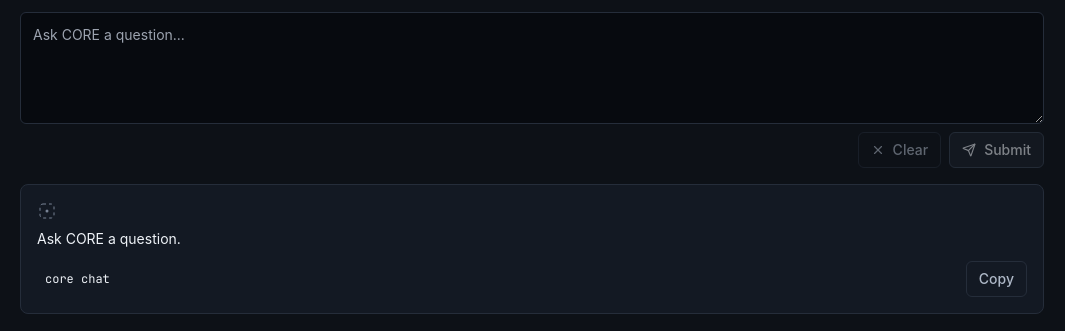
Test: ChatRoute › disables composer and renders Awaiting turn while pending
Type "What is truth?" into the text box with placeholder "Ask CORE a question...".
click(532, 68); type("What is truth?")  # box [20,12,1044,124]
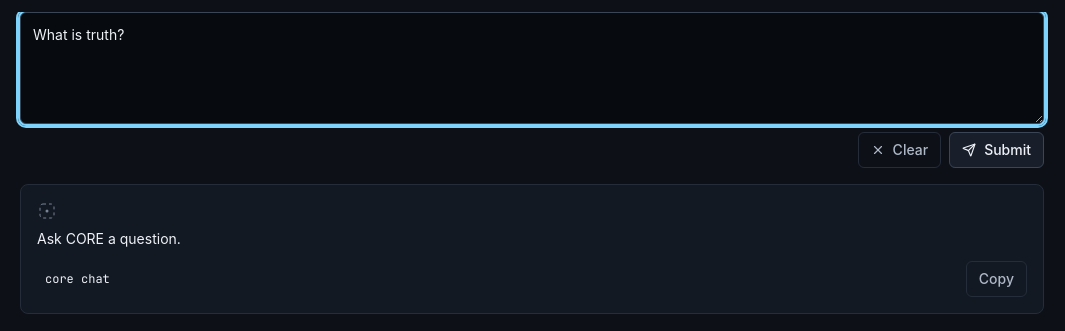
Click the button "Submit".
click(997, 150)  # box [949,132,1044,168]
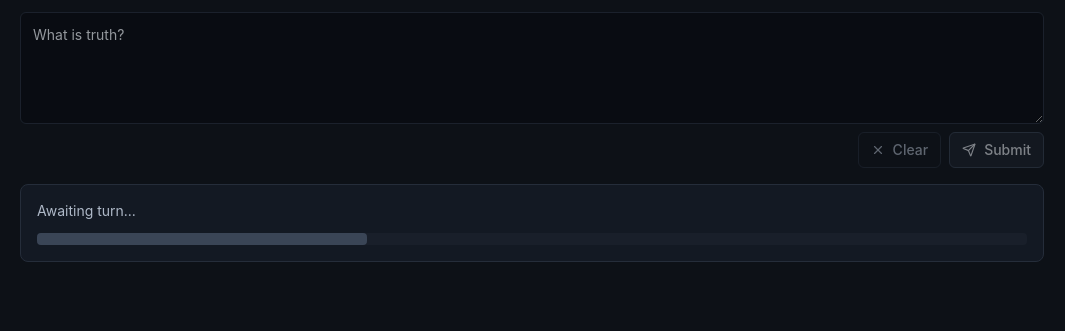
Expected: the text "Awaiting turn..." is shown, [37,202,136,219]
Expected: the text box with placeholder "Ask CORE a question..." is disabled, [20,12,1044,124]
